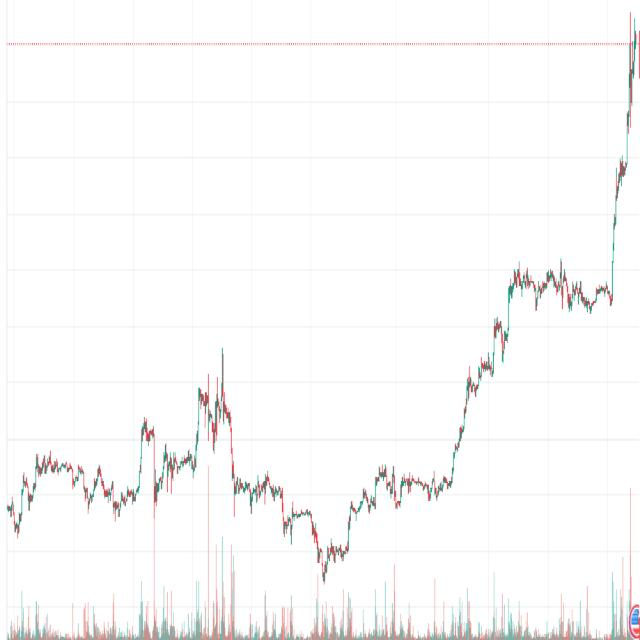Double-Top: (192, 334, 240, 456), (137, 412, 159, 473)
